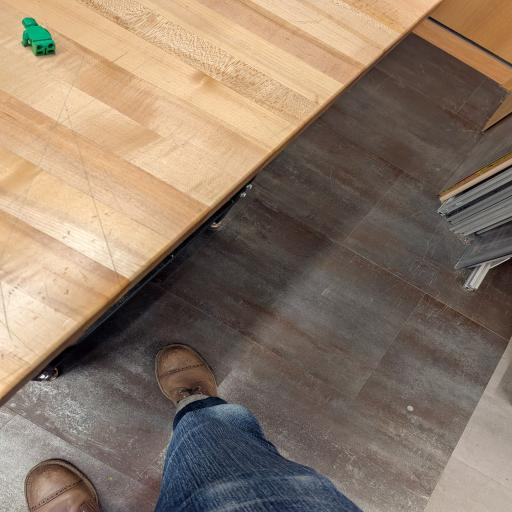Minifig: (22, 18, 55, 56)
